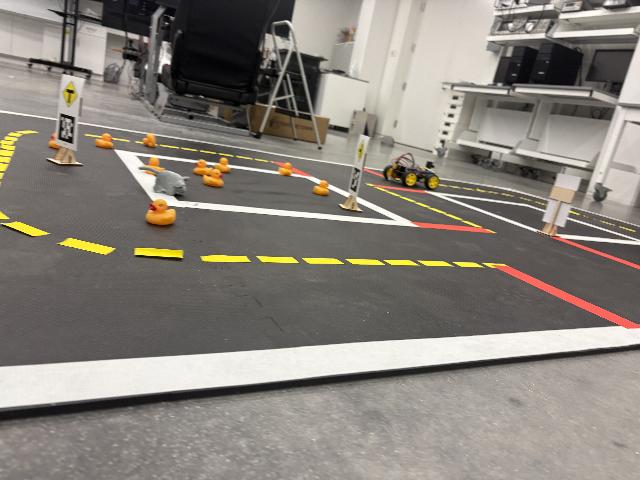duck: (145, 197, 177, 226), (141, 156, 168, 173), (203, 169, 224, 188), (93, 133, 114, 150), (192, 160, 213, 175), (314, 181, 332, 195), (142, 133, 158, 148), (215, 158, 232, 172), (279, 162, 293, 176), (46, 133, 55, 150)
l_intersection: (338, 133, 376, 211)
mouse: (137, 167, 189, 194)
redline: (497, 265, 630, 326), (557, 238, 640, 273), (413, 221, 490, 237), (377, 184, 428, 195)
t_intersection: (49, 73, 89, 171)
whiteline: (0, 332, 640, 417), (181, 198, 404, 230), (430, 190, 535, 233)
yellowline: (130, 244, 493, 277), (2, 209, 109, 270), (3, 122, 44, 206), (159, 139, 261, 159), (382, 190, 429, 213), (438, 183, 480, 192)
